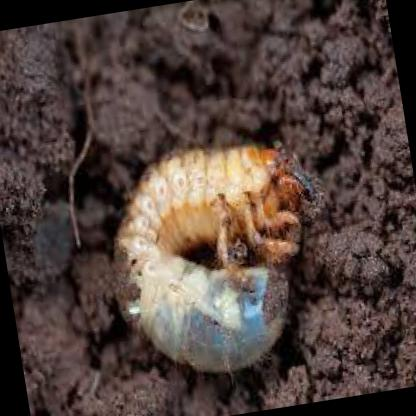root grubs: (115, 143, 319, 371)
